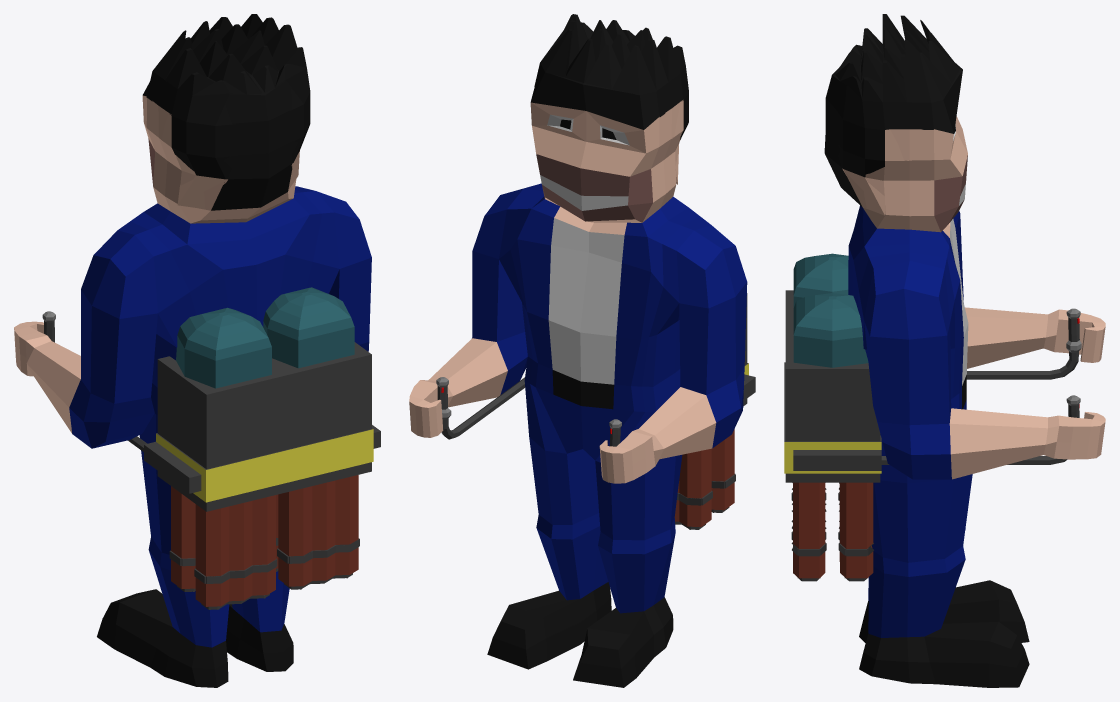
File: newJetMan.fbx
3 views of the same model, side by side, from view 1: azimuth 30°, elevation 25°; view 2: azimuth 150°, elevation 25°; view 3: azimuth 270°, elevation 25° (orthographic). The views are drawn at different scales.
Visible parts, largest first — view 1: JetPlayer, JetPack; view 2: JetPlayer, JetPack; view 3: JetPlayer, JetPack.
Boxes of the visible parts, box(x1,y1,x2,y2) form: JetPlayer: box(14, 14, 371, 687); JetPack: box(42, 287, 380, 609); JetPlayer: box(409, 14, 747, 687); JetPack: box(436, 293, 755, 529); JetPlayer: box(824, 14, 1105, 687); JetPack: box(784, 253, 1081, 581).
Bounding box in the file's own units: 134 × 289 × 136.
